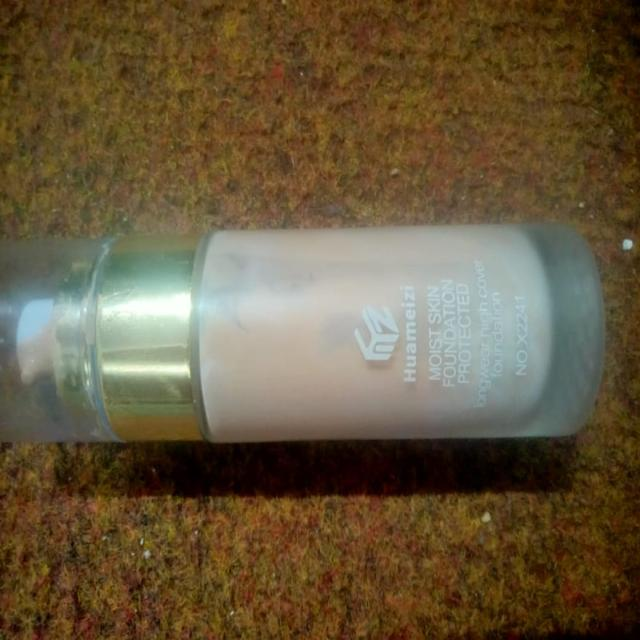serum: (0, 187, 617, 478)
